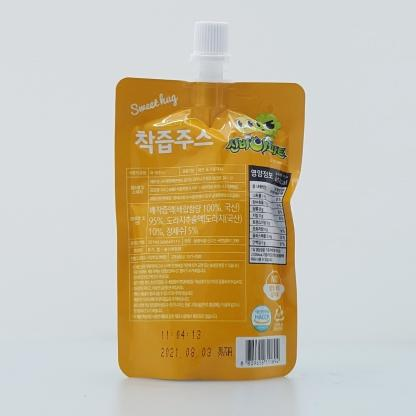-------------------100ML: (115, 21, 305, 380)
